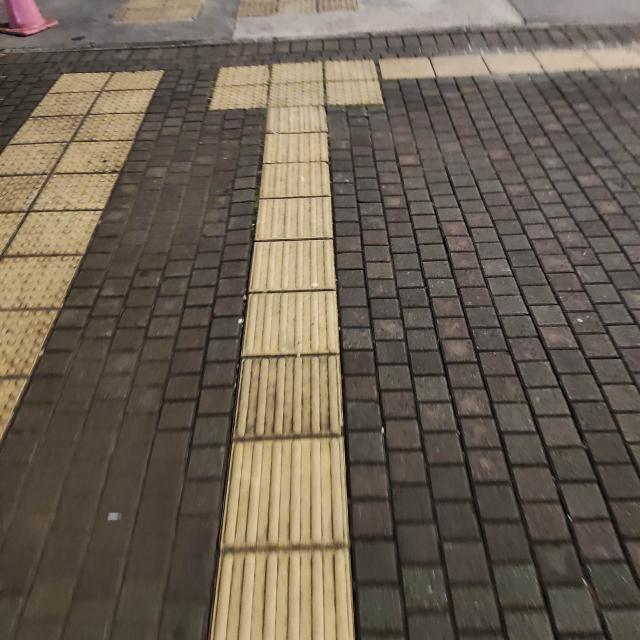kanan: (245, 48, 465, 132)
